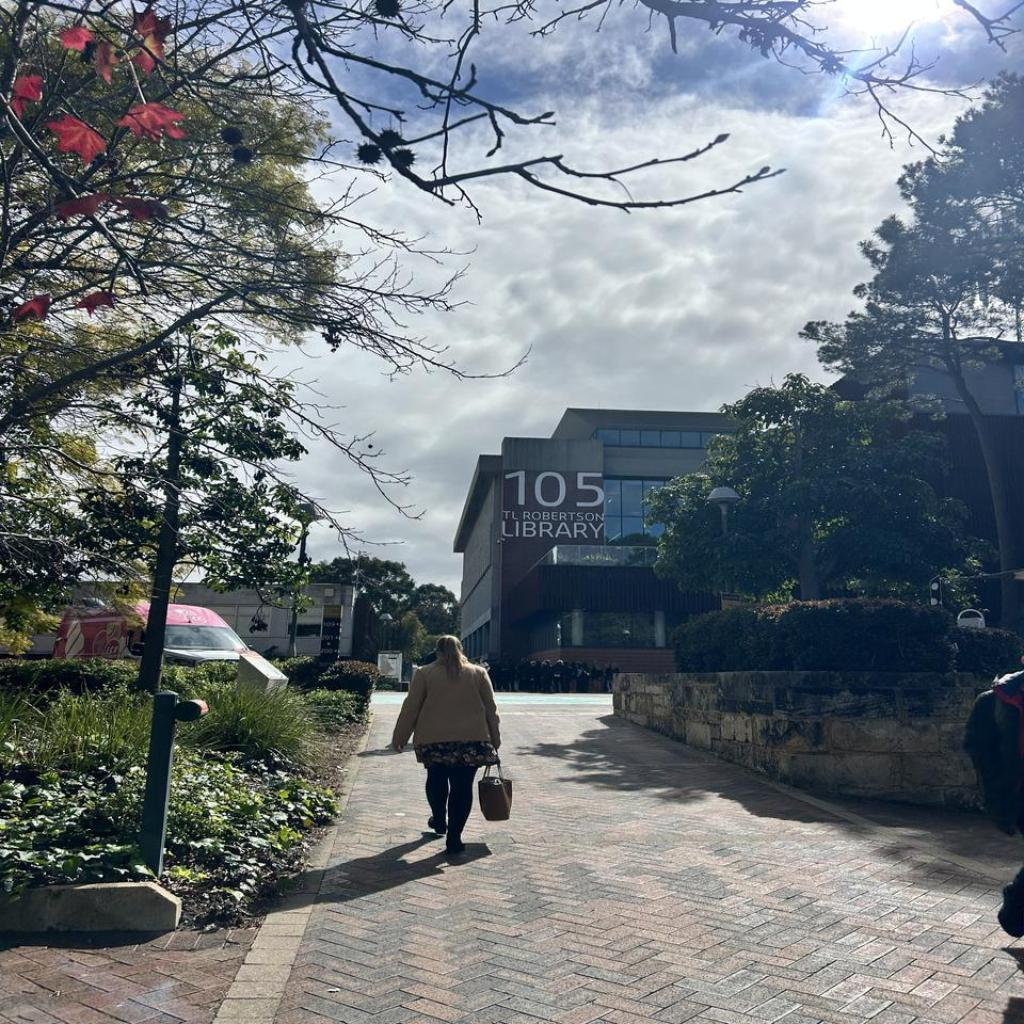BuildingCodes: (504, 468, 606, 508)
